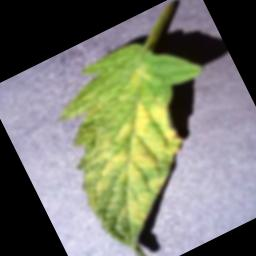Leaf_Mold: (38, 52, 221, 256)
